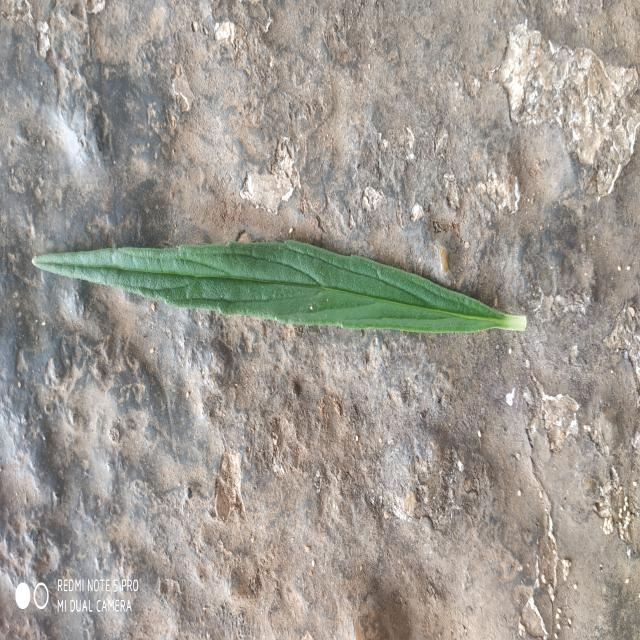defectedthambe: (32, 247, 218, 307)
thambe: (32, 240, 526, 333)
